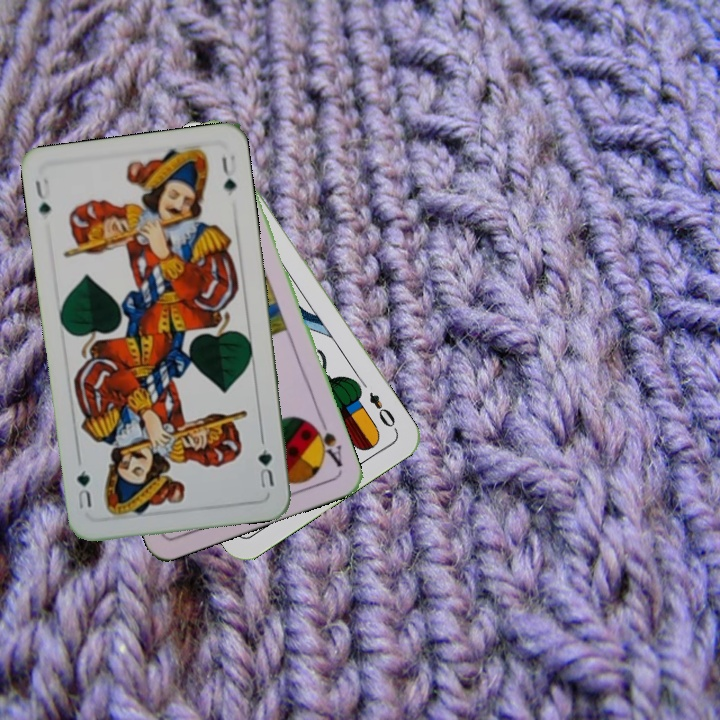EO: (365, 388, 400, 434)
GU: (253, 435, 277, 491), (31, 173, 53, 218)
SA: (307, 414, 345, 470)
